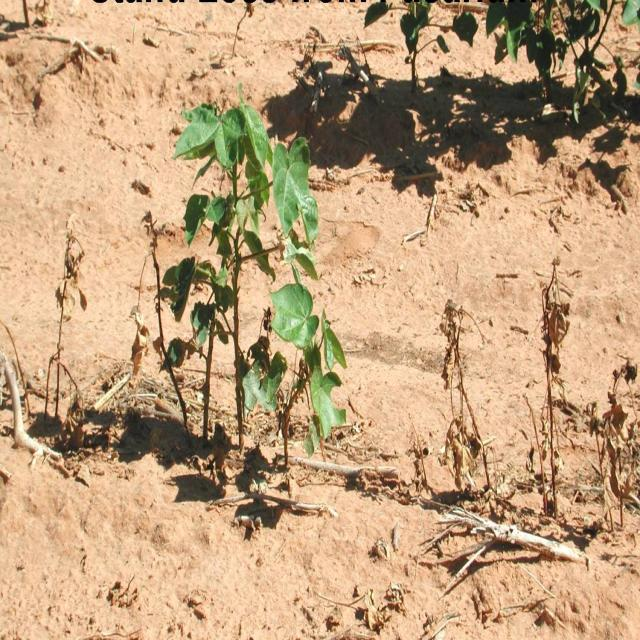Fusarium Wilt: (411, 288, 628, 526), (55, 222, 251, 463)
